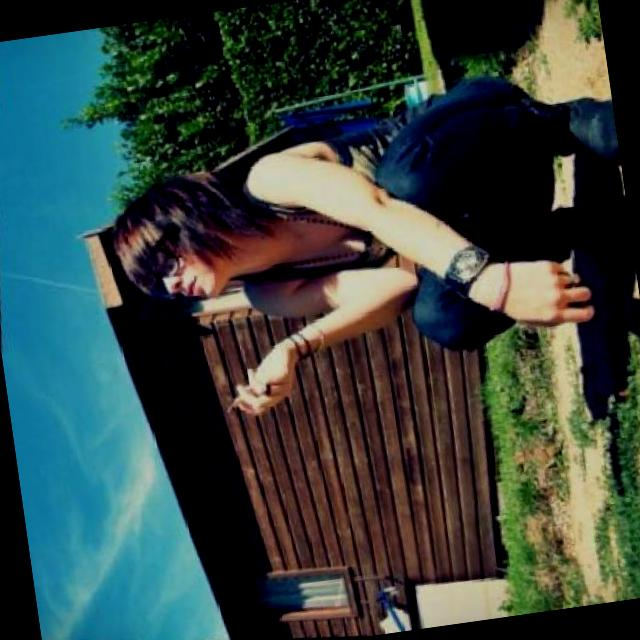smoke: (213, 324, 330, 422)
